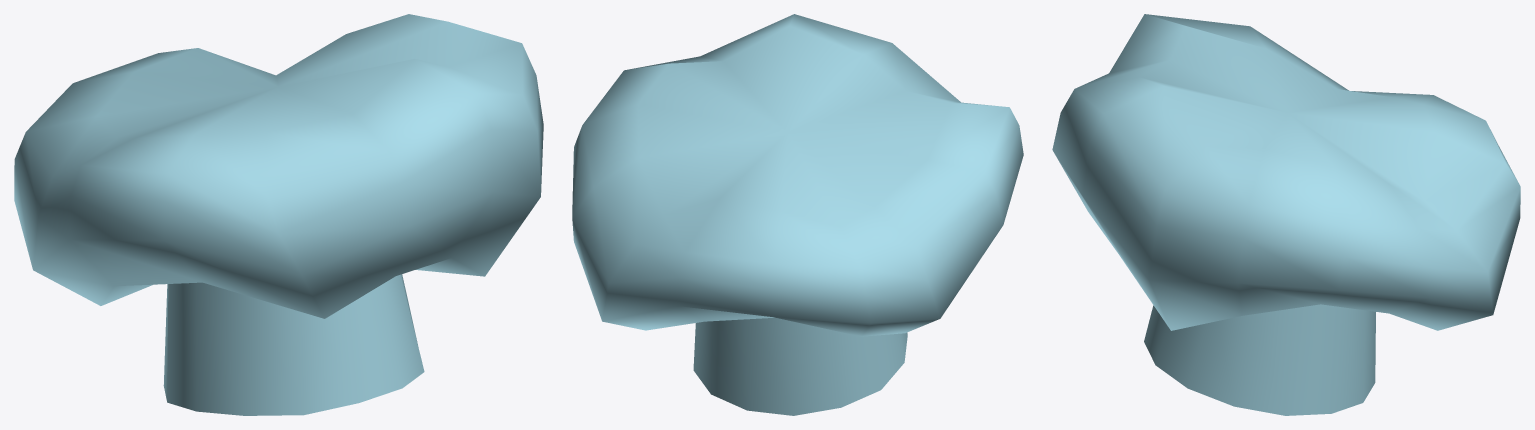
The model's file is Chefs_hat.fbx.
The picture shows the model from 3 angles, left to right: view 1: azimuth 30°, elevation 25°; view 2: azimuth 150°, elevation 25°; view 3: azimuth 270°, elevation 25°; orthographic projection. The views are drawn at different scales.
Parts seen in each view (by area): view 1: Chefs_hat; view 2: Chefs_hat; view 3: Chefs_hat.
Boxes of the visible parts, <box> form: Chefs_hat: <box>14,14,543,415</box>; Chefs_hat: <box>572,14,1023,415</box>; Chefs_hat: <box>1052,14,1520,415</box>.
Bounding box in the file's own units: 1.1 × 0.8157 × 1.06.
